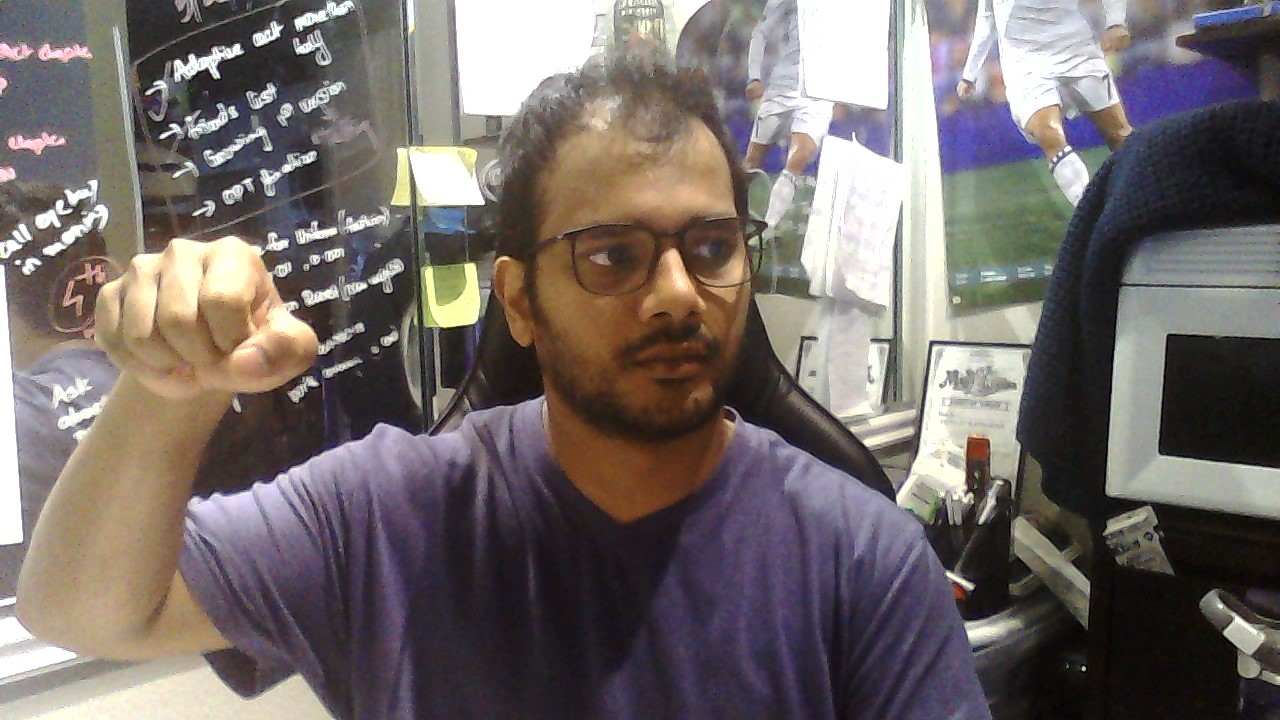Yes: (93, 236, 318, 398)
